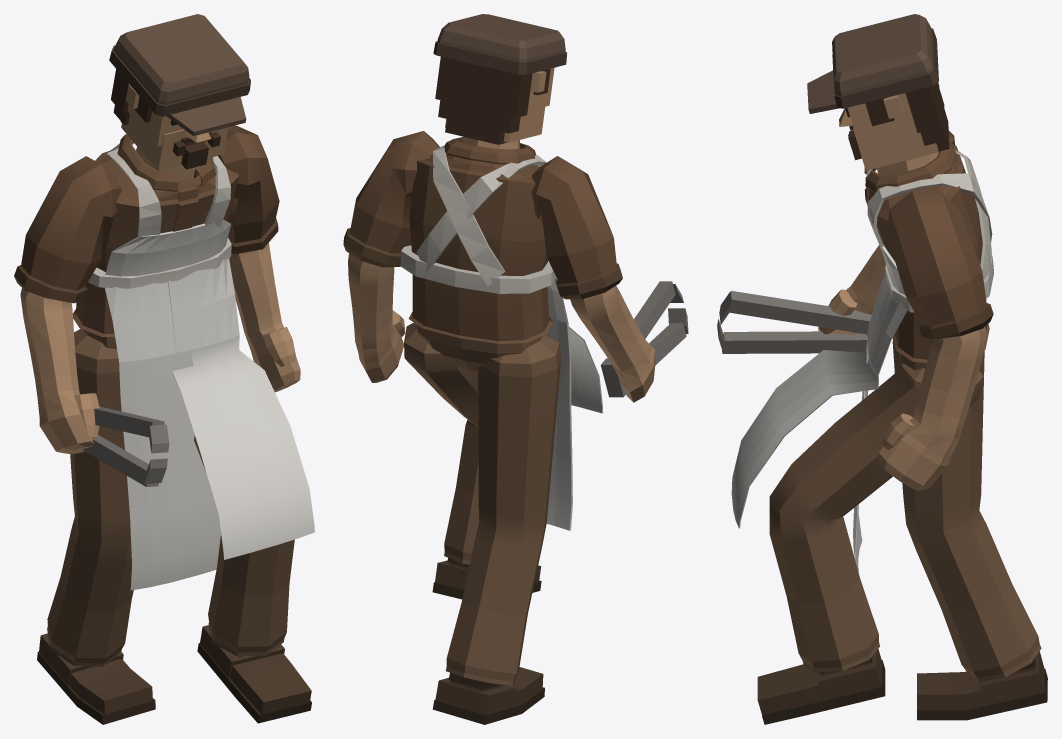
File: street-vendor-139de3__walk7.glb
3 views of the same model, side by side, from view 1: azimuth 30°, elevation 25°; view 2: azimuth 150°, elevation 25°; view 3: azimuth 270°, elevation 25° (orthographic). The views are drawn at different scales.
Parts seen in each view (by area): view 1: street-vendor-139de3__walk7; view 2: street-vendor-139de3__walk7; view 3: street-vendor-139de3__walk7.
Boxes of the visible parts, box(x1,y1,x2,y2) form: street-vendor-139de3__walk7: box(14, 14, 314, 724); street-vendor-139de3__walk7: box(343, 14, 688, 724); street-vendor-139de3__walk7: box(717, 14, 1047, 724).
Size of the model in its own units: 0.7223 by 1.72 by 0.7429.
